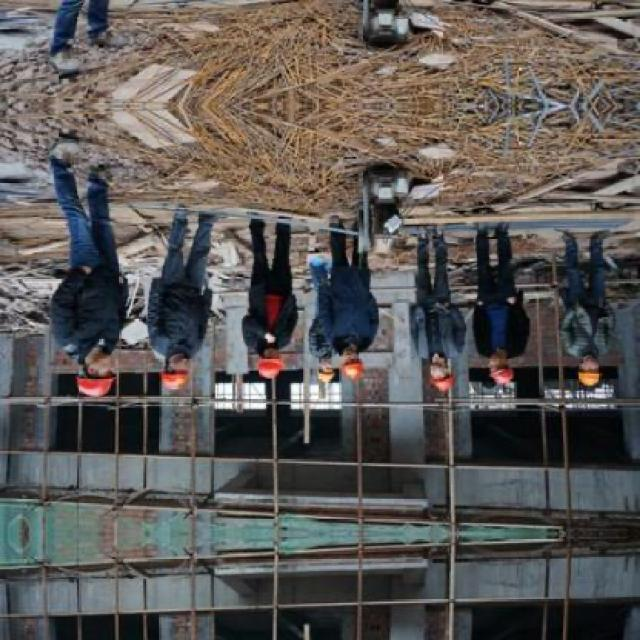con casco: (394, 325, 484, 407), (58, 326, 118, 424), (547, 332, 624, 404), (236, 329, 305, 389), (470, 346, 528, 397), (322, 326, 370, 386), (147, 339, 201, 391)
